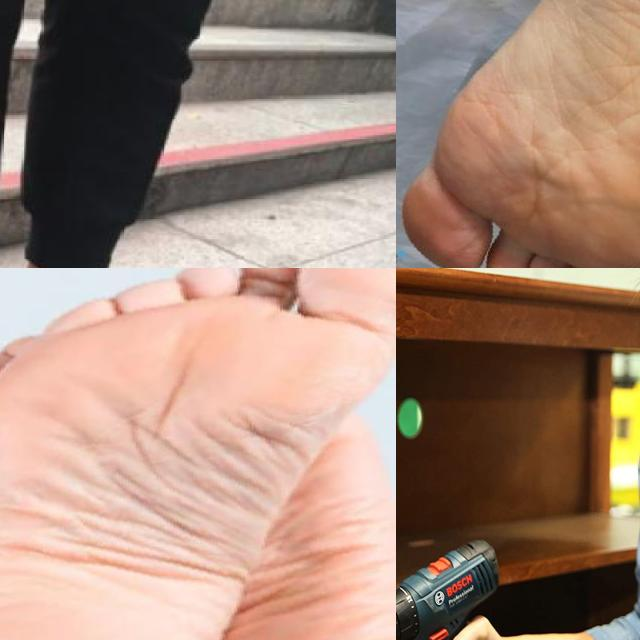Barefoots: (0, 268, 396, 640), (396, 0, 640, 268)
